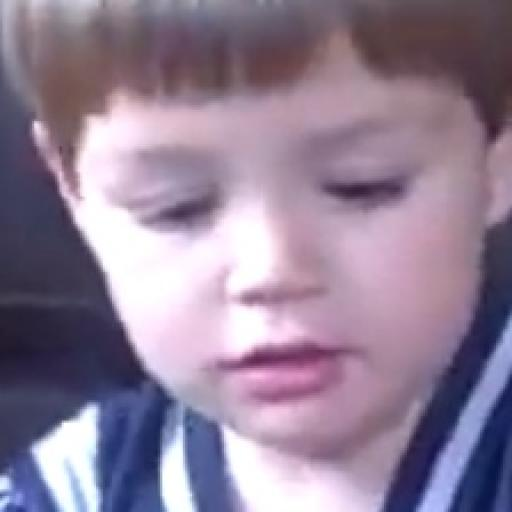Autism: (32, 0, 507, 478)
